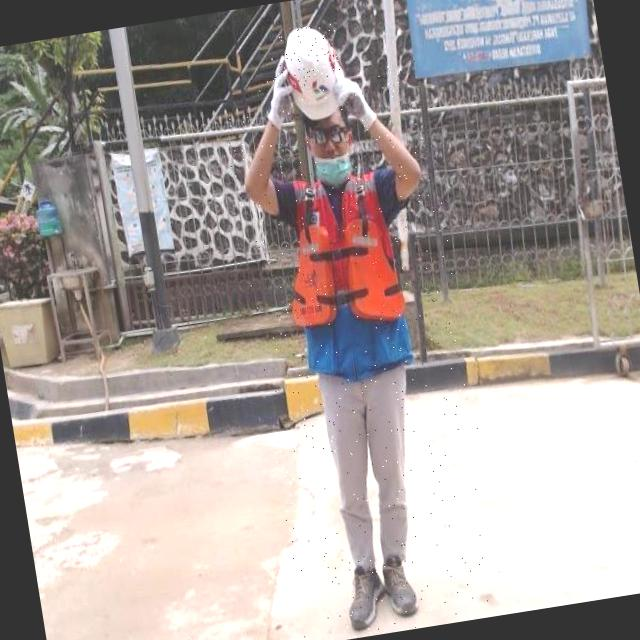boots: (338, 560, 389, 632), (377, 548, 420, 619)
gloves: (258, 47, 307, 133), (340, 70, 380, 134)
vest: (275, 166, 417, 376)
